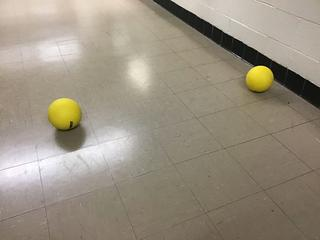power_cell: (46, 95, 85, 132), (243, 63, 279, 96)
